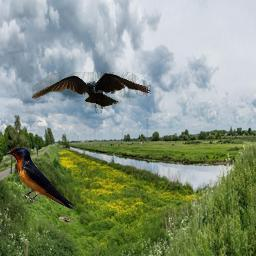Crow: (32, 72, 151, 113)
Swallow: (5, 147, 74, 211)
